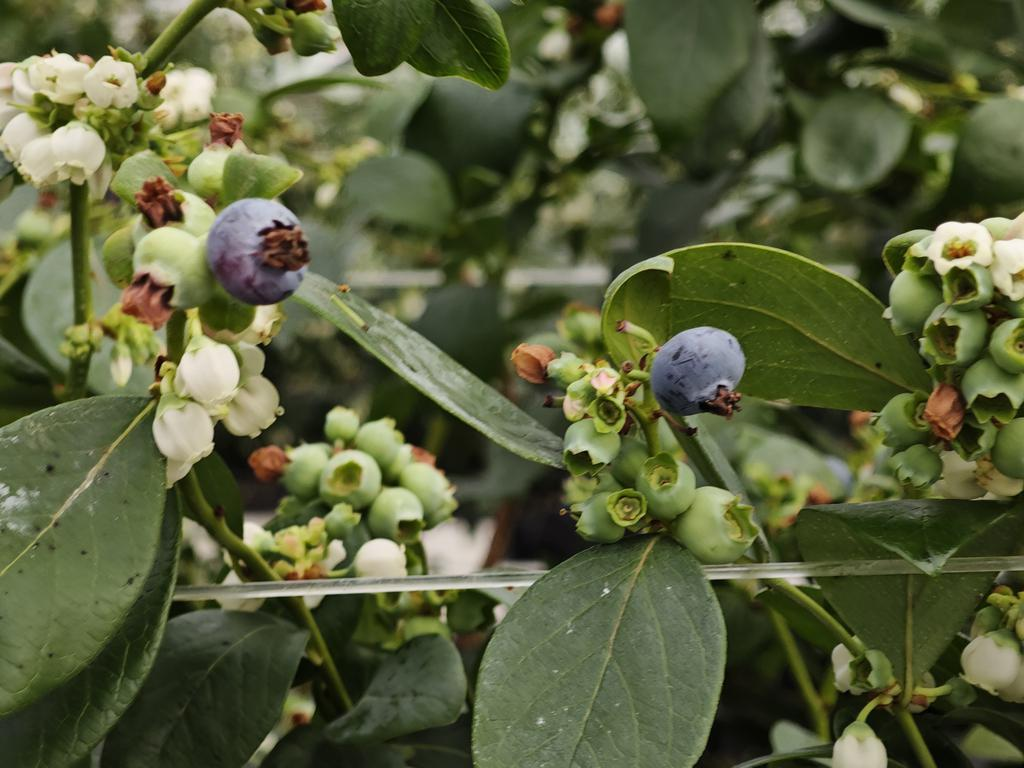RipeBlueBerry: (211, 197, 309, 303), (650, 325, 748, 419)
